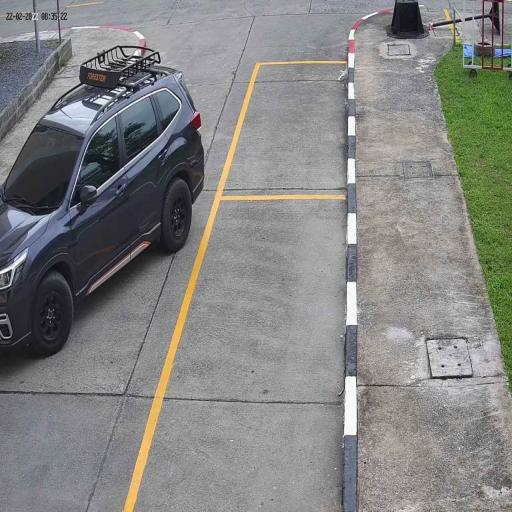car: (0, 45, 206, 357)
